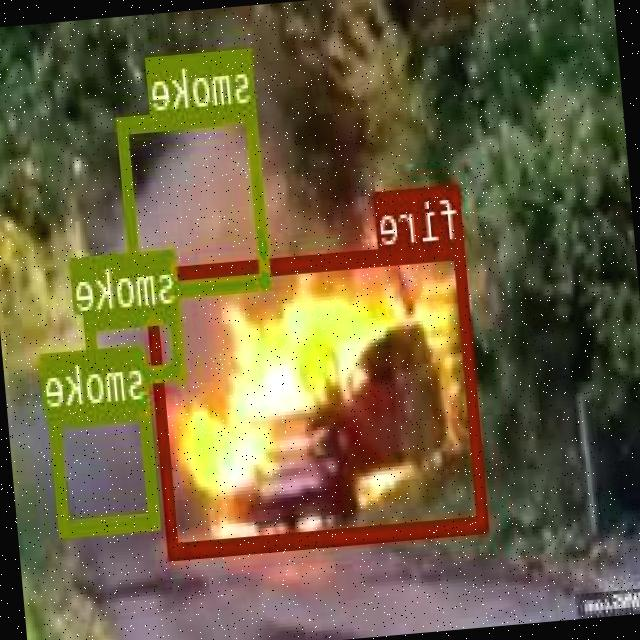fire: (147, 238, 490, 558)
smoke: (120, 103, 273, 297), (51, 402, 160, 534), (86, 304, 188, 384)
